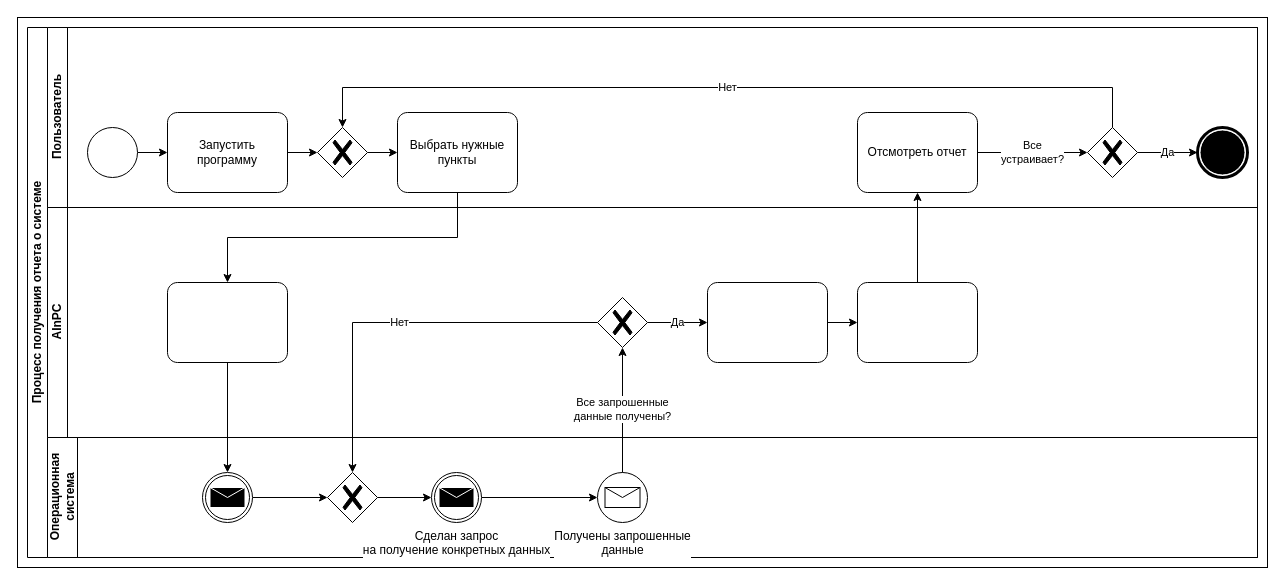
Some shapes in this 1285 by 585 pixel diagram are drawn without their labels. Each missing label, with the centre of its shape:
"Выгрузить отчет" belongs at point (917, 322).
"Запустить поток опроса системы" belongs at point (227, 322).
"Обработать данные" belongs at point (767, 322).
"Передан список всех нужных данных" belongs at point (227, 497).
